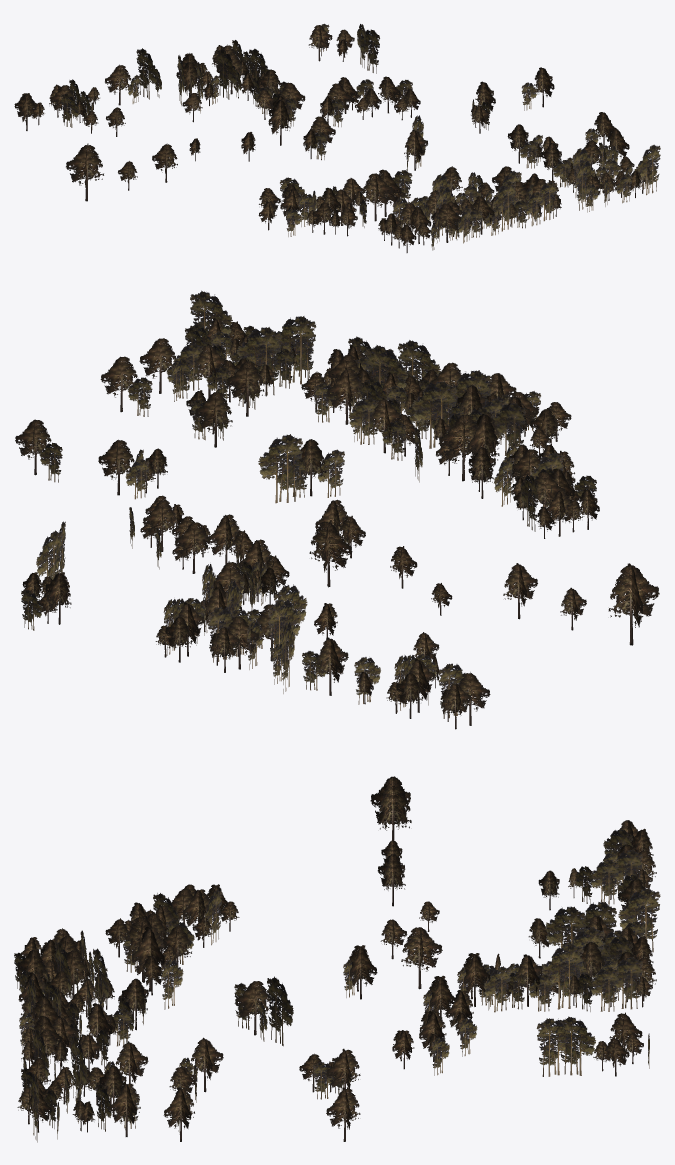
The model's file is arbol1.obj.
The picture shows the model from 3 angles, top to bottom: view 1: azimuth 30°, elevation 25°; view 2: azimuth 150°, elevation 25°; view 3: azimuth 270°, elevation 25°; orthographic projection. The views are drawn at different scales.
Parts seen in each view (by area): view 1: Arbol_Plano; view 2: Arbol_Plano; view 3: Arbol_Plano.
Boxes of the visible parts, box(x1,y1,x2,y2) form: Arbol_Plano: box(14, 23, 660, 252); Arbol_Plano: box(15, 290, 659, 729); Arbol_Plano: box(14, 776, 660, 1142).
Size of the model in its own units: 871 by 109 by 774.
2 materials, 2 textured.
